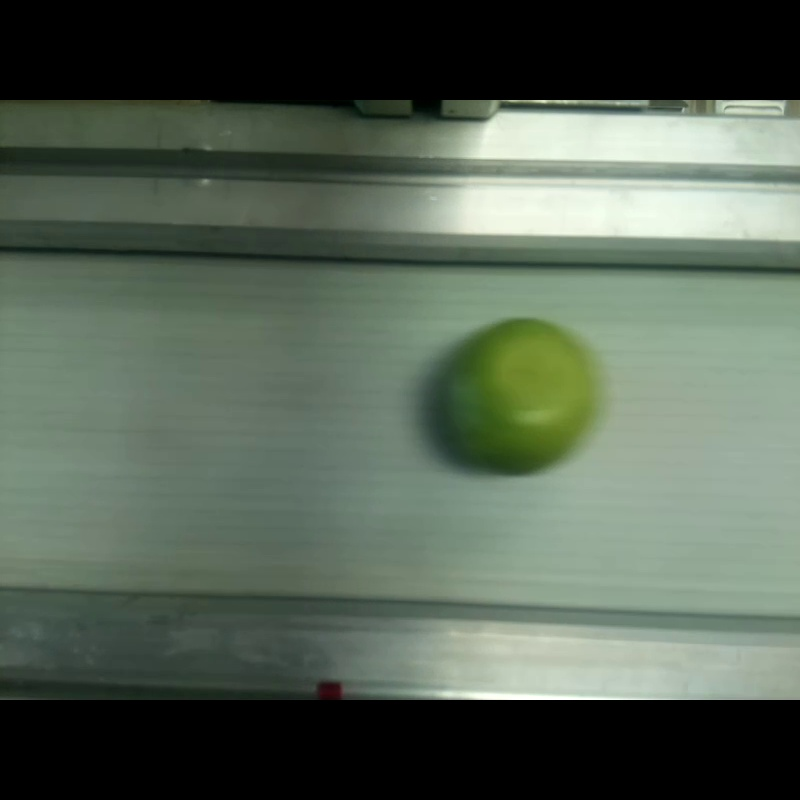lime: (443, 320, 596, 470)
